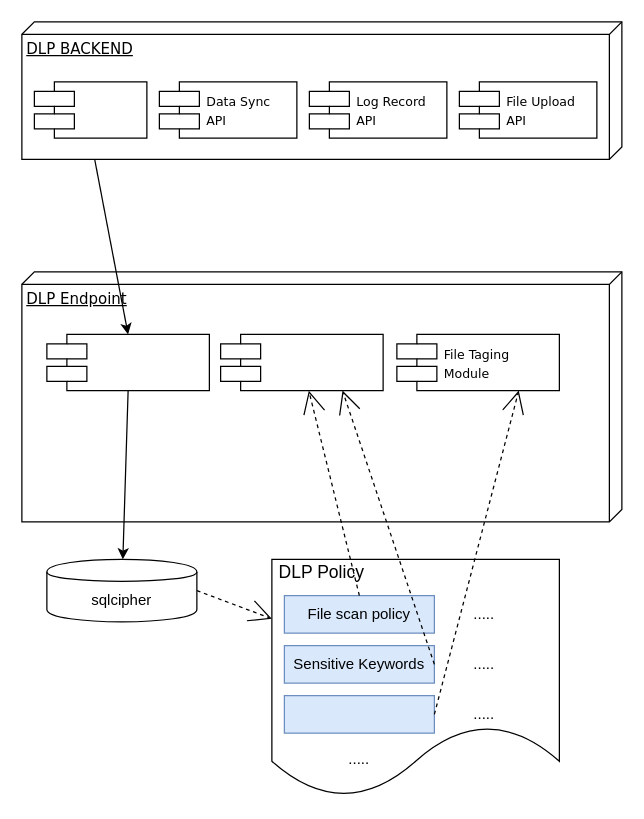
Some shapes in this 644 by 819 pixel diagram are drawn without their labels. Here are the shapes that lost their labels. From the top down, the centre of each, then its label:
At point (90, 109): "Policy API".
At point (127, 362): "Policy Update Module".
At point (301, 362): "File Scan Module".
At point (358, 713): "Sensitive Document Tagging Rules".
